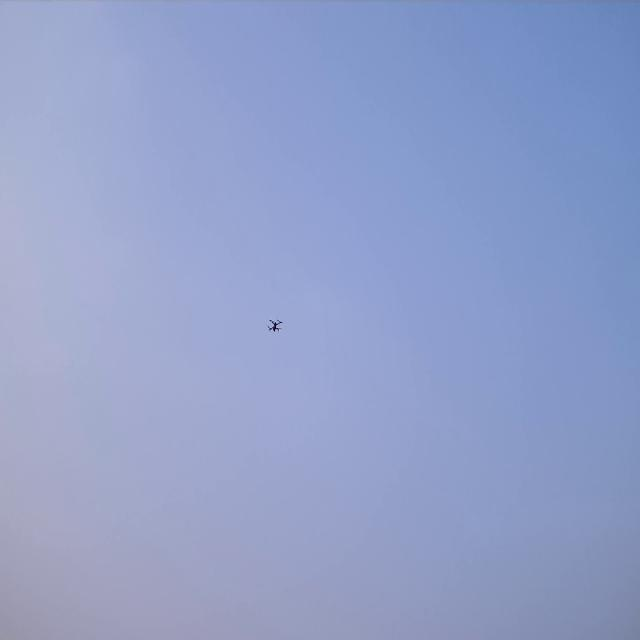UAV: (267, 317, 283, 333)
